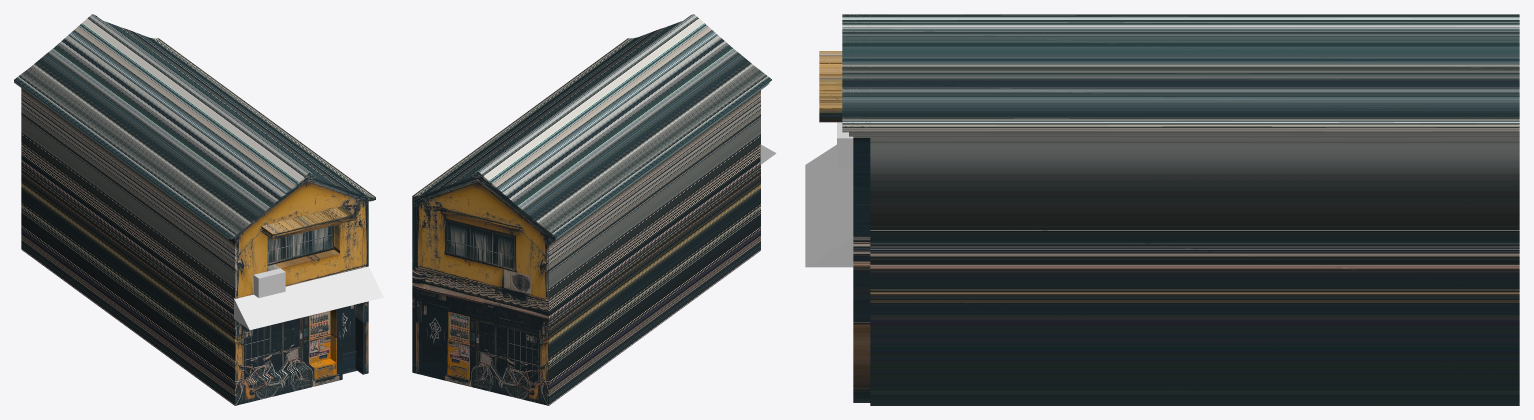
Rendered from Building_yellow.glb.
3 views of the same model, side by side, from view 1: azimuth 30°, elevation 25°; view 2: azimuth 150°, elevation 25°; view 3: azimuth 270°, elevation 25° (orthographic). The views are drawn at different scales.
Visible parts, largest first — view 1: cee2f30bc94785897b247a07f662bf36, Cube.001, Cube; view 2: cee2f30bc94785897b247a07f662bf36; view 3: cee2f30bc94785897b247a07f662bf36, Cube.001, Cube.
Boxes of the visible parts, <box> form: cee2f30bc94785897b247a07f662bf36: <box>14,14,375,405</box>; Cube.001: <box>234,266,383,330</box>; Cube: <box>253,268,285,297</box>; cee2f30bc94785897b247a07f662bf36: <box>412,14,771,405</box>; cee2f30bc94785897b247a07f662bf36: <box>819,14,1519,405</box>; Cube.001: <box>805,144,853,267</box>; Cube: <box>837,122,853,168</box>.
Bounding box in the file's own units: 4.02 × 5.78 × 10.97.
1 material, 1 textured.
